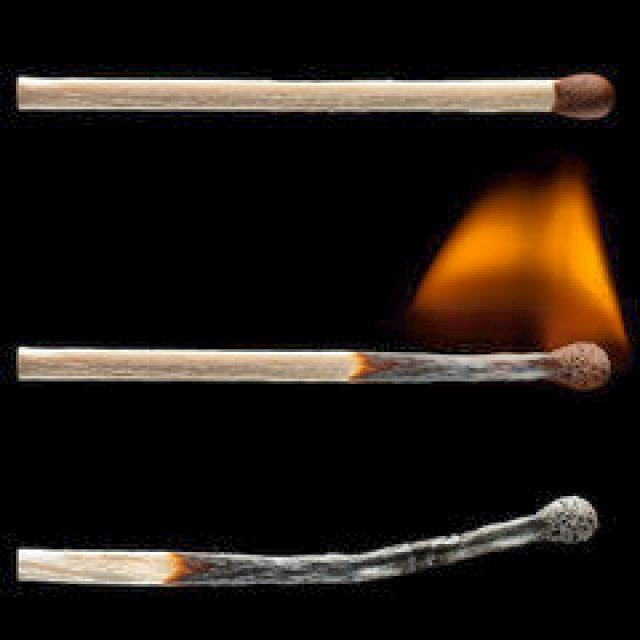fire: (412, 167, 629, 387)
